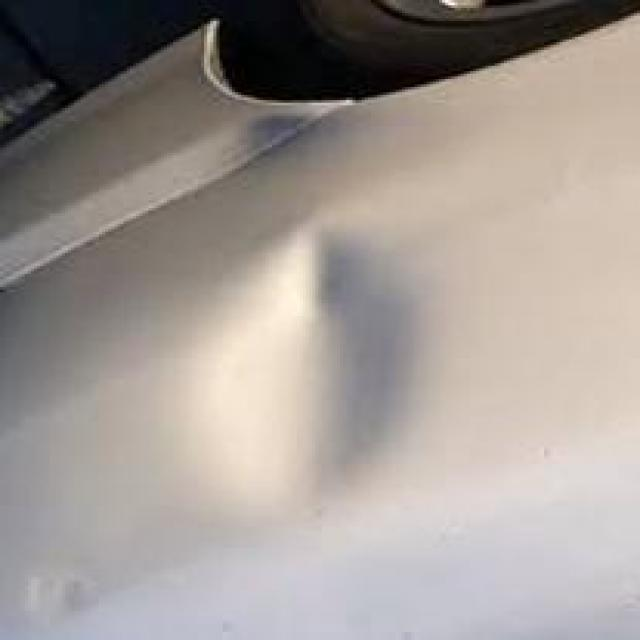dent: (182, 205, 446, 540)
